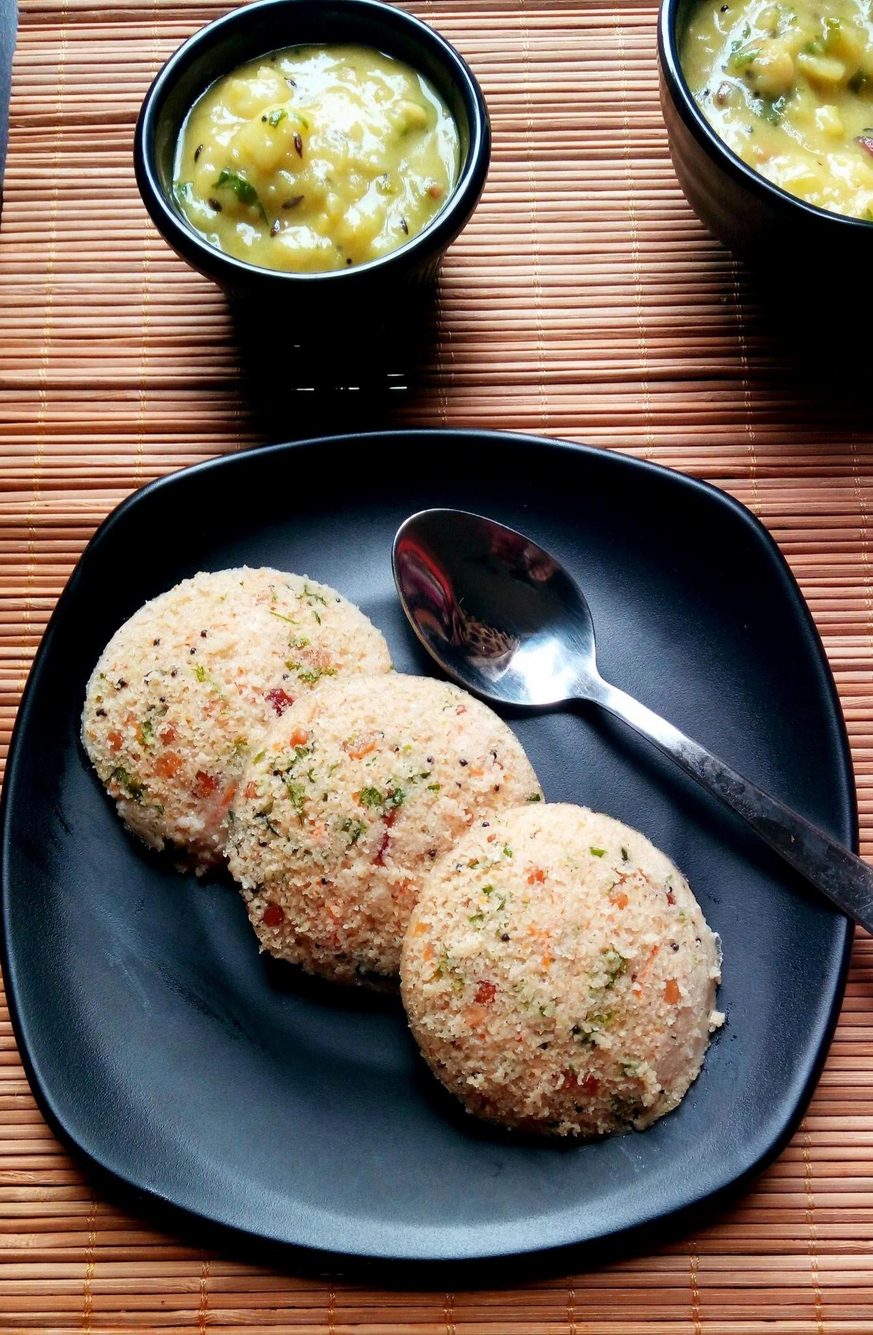Idli: (236, 673, 536, 988), (405, 820, 713, 1124), (86, 575, 388, 852)
